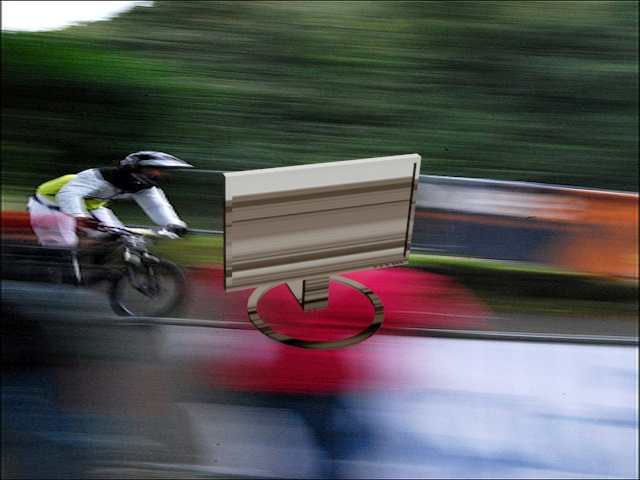monitor: (217, 151, 432, 352)
